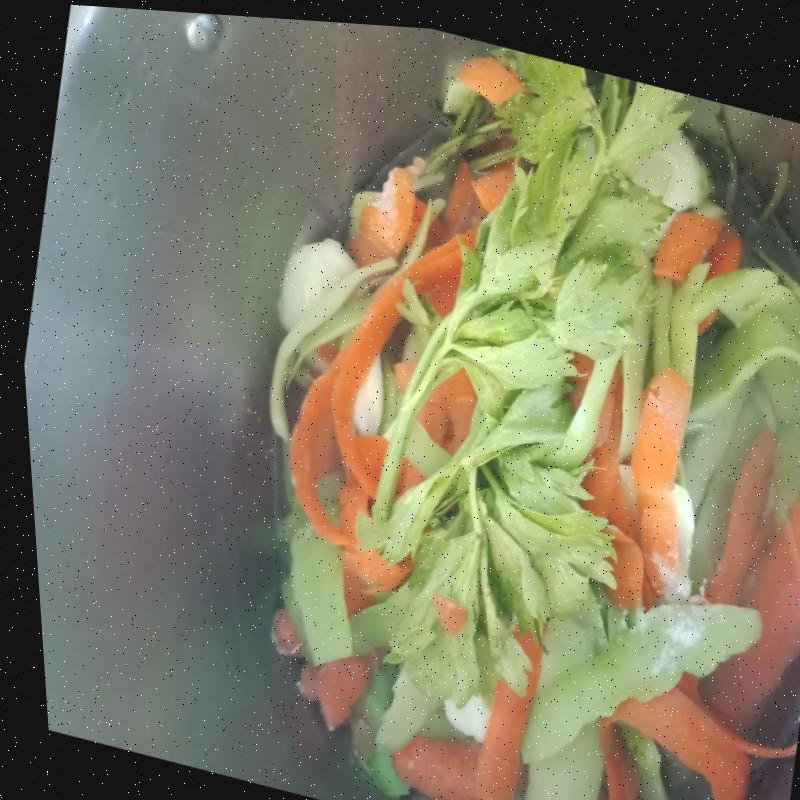vegetable peels: (356, 49, 692, 709), (291, 235, 461, 545), (521, 603, 764, 763), (270, 237, 399, 444), (608, 670, 797, 800), (700, 496, 800, 718), (681, 309, 800, 485), (274, 439, 353, 665), (644, 261, 778, 387), (631, 365, 695, 608), (475, 631, 542, 800), (346, 165, 417, 265), (299, 648, 384, 730), (653, 210, 742, 282), (393, 733, 488, 800)
